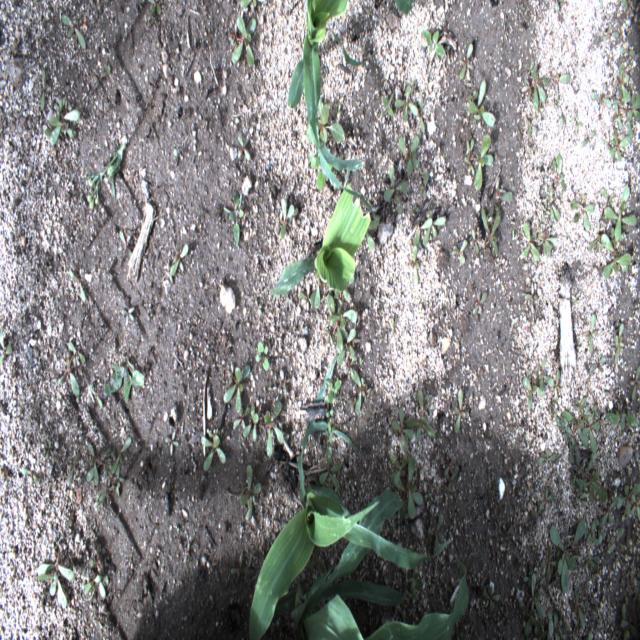crop: (250, 420, 452, 639), (274, 485, 468, 638), (287, 0, 379, 231), (268, 182, 372, 294), (315, 350, 337, 402), (394, 0, 416, 17)
weed: (81, 139, 125, 211), (556, 396, 600, 464), (550, 519, 588, 593), (37, 548, 75, 610), (104, 354, 146, 404), (391, 456, 423, 518), (323, 295, 357, 353), (570, 449, 606, 503), (57, 341, 86, 402), (44, 97, 80, 145), (605, 185, 636, 239), (306, 99, 344, 143), (464, 134, 493, 188), (521, 58, 551, 110), (601, 228, 631, 278), (406, 388, 435, 439), (614, 92, 640, 144), (223, 363, 250, 412), (86, 442, 115, 487), (231, 15, 256, 67), (468, 80, 495, 128), (240, 464, 262, 522), (383, 167, 409, 214), (200, 426, 226, 472), (223, 191, 245, 245), (264, 401, 283, 458), (392, 407, 414, 452), (319, 446, 341, 490), (570, 192, 594, 232), (308, 152, 333, 190), (99, 464, 124, 501), (488, 180, 512, 218), (399, 135, 421, 176), (607, 402, 639, 430), (482, 208, 501, 255), (62, 14, 85, 52), (521, 371, 544, 409), (394, 87, 418, 123), (350, 369, 368, 415), (423, 210, 446, 246), (110, 435, 131, 473), (169, 242, 188, 284), (602, 134, 630, 162), (614, 64, 632, 107), (279, 198, 298, 238), (520, 223, 540, 261), (540, 545, 561, 581), (83, 571, 109, 600), (337, 328, 357, 364), (427, 512, 444, 554), (617, 484, 640, 515), (519, 606, 543, 635), (452, 388, 466, 436), (242, 401, 258, 443), (591, 84, 611, 115), (36, 68, 50, 111), (529, 574, 543, 617), (298, 283, 318, 313), (547, 610, 567, 640), (422, 30, 444, 57), (538, 357, 554, 394), (600, 497, 620, 526), (68, 269, 85, 302), (334, 277, 354, 305), (389, 454, 408, 483), (413, 219, 432, 248), (610, 324, 624, 363), (232, 400, 250, 430), (552, 153, 566, 191), (459, 43, 473, 81), (231, 554, 250, 581), (554, 73, 570, 105), (67, 451, 81, 487), (118, 229, 134, 260), (574, 585, 585, 630), (536, 232, 556, 256), (366, 216, 380, 250), (324, 379, 342, 405), (546, 187, 559, 223), (255, 340, 269, 373), (602, 21, 619, 48), (0, 326, 12, 364), (237, 130, 251, 162), (309, 544, 325, 572), (483, 585, 499, 613), (536, 448, 557, 469), (539, 486, 556, 511), (607, 528, 624, 553), (164, 430, 179, 458), (582, 549, 600, 572), (94, 64, 110, 89), (587, 314, 597, 354), (524, 281, 538, 309), (146, 0, 163, 23), (452, 240, 468, 263), (472, 291, 487, 315), (523, 566, 539, 588), (630, 366, 640, 401), (530, 502, 544, 526), (581, 129, 596, 151), (586, 520, 599, 545), (21, 467, 38, 486), (590, 352, 606, 372), (419, 169, 429, 200), (121, 306, 135, 328), (447, 466, 458, 493), (412, 244, 419, 286), (382, 93, 394, 117), (444, 454, 457, 476), (526, 114, 537, 140), (621, 36, 635, 56), (534, 576, 547, 597), (572, 490, 587, 508), (423, 393, 434, 416), (584, 601, 598, 619), (621, 620, 637, 635), (630, 494, 639, 520), (588, 235, 601, 253), (470, 229, 479, 255), (539, 201, 551, 220), (322, 422, 332, 444), (622, 604, 628, 640), (240, 0, 266, 8), (554, 370, 560, 404), (600, 188, 612, 205), (571, 113, 583, 130), (44, 441, 54, 460), (420, 97, 425, 135), (314, 281, 320, 309), (345, 357, 354, 375), (615, 545, 624, 563), (604, 386, 613, 400), (392, 317, 399, 335), (598, 529, 606, 544), (612, 117, 618, 136), (555, 0, 564, 12), (619, 0, 628, 9), (326, 408, 334, 417), (527, 147, 537, 152), (359, 357, 362, 368), (599, 0, 602, 8)
